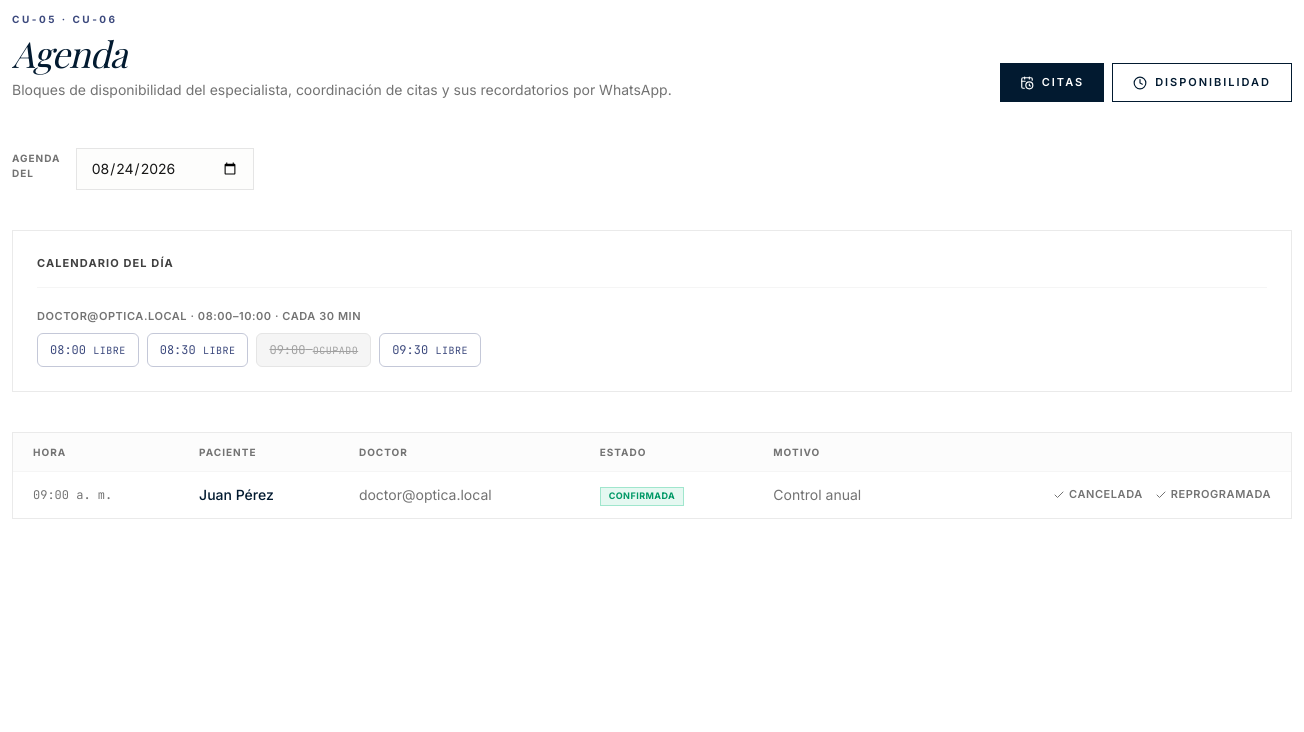
Scenario: AgendaPage › 2. Alta de cita — CU-05 pasos 3, 4 y 5 › cancelar cierra el formulario sin guardar
Click the button "08:30 Libre" at point(198, 350), box [147, 333, 248, 367]
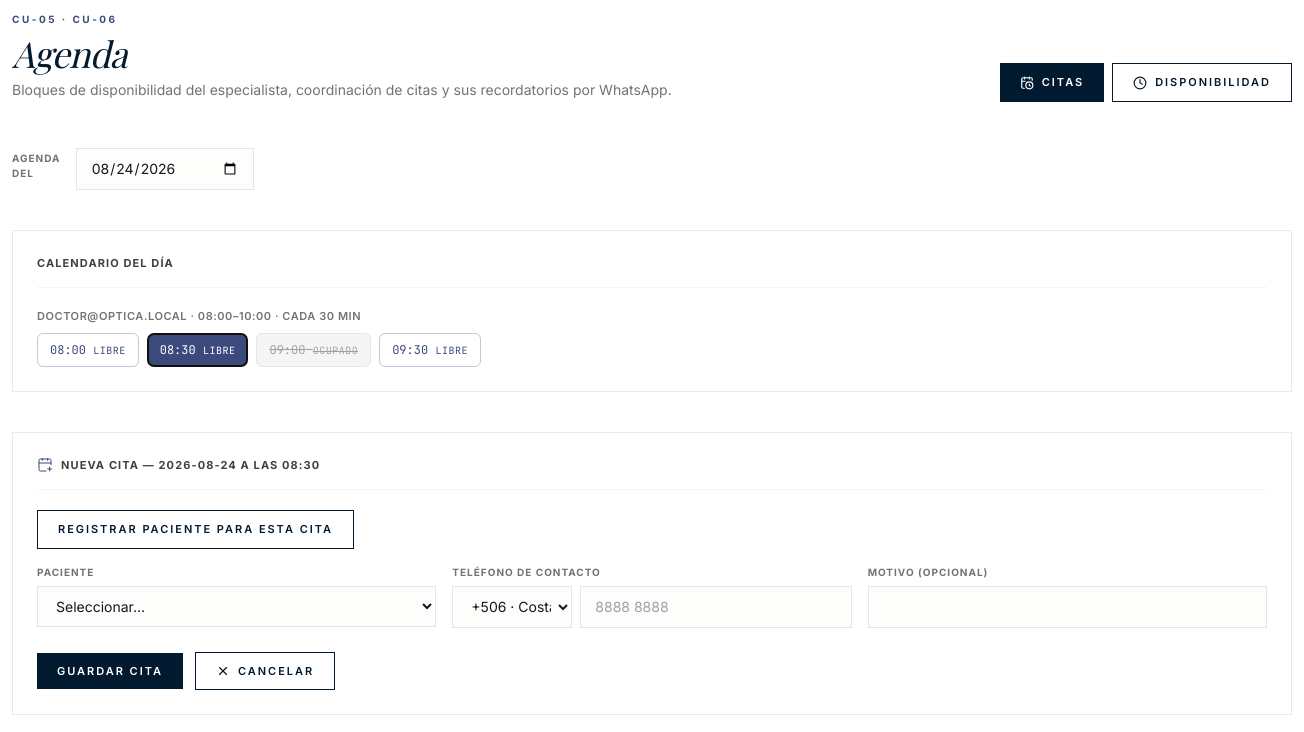
Click the button "Cancelar" at point(265, 671), box [195, 652, 335, 690]
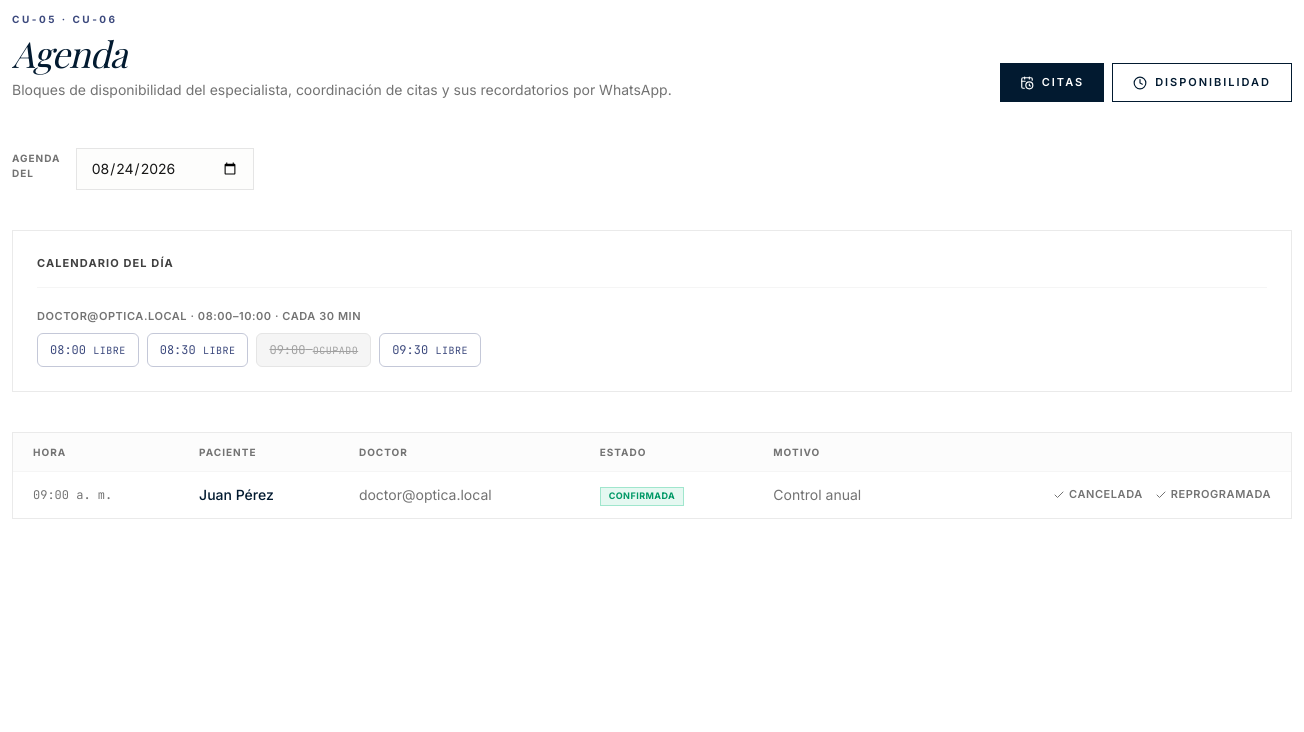
Check: the heading "Nueva cita —" is gone
